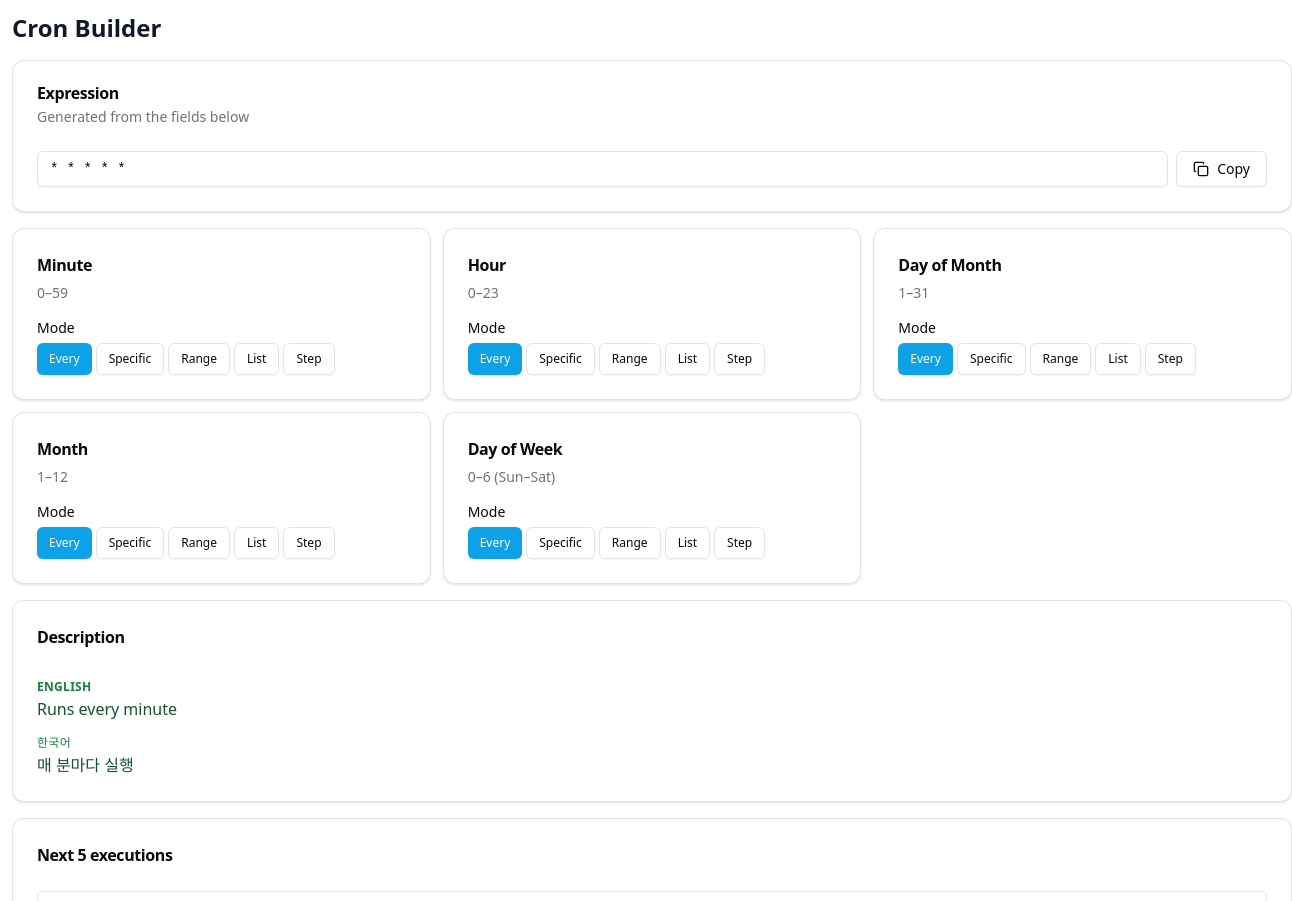
Test: CronBuilder › mode interactions › setting hour to range 9-17 produces * 9-17 * * *
Click the button "range" below "0–23". click: [630, 359]
box: [599,343,661,375]
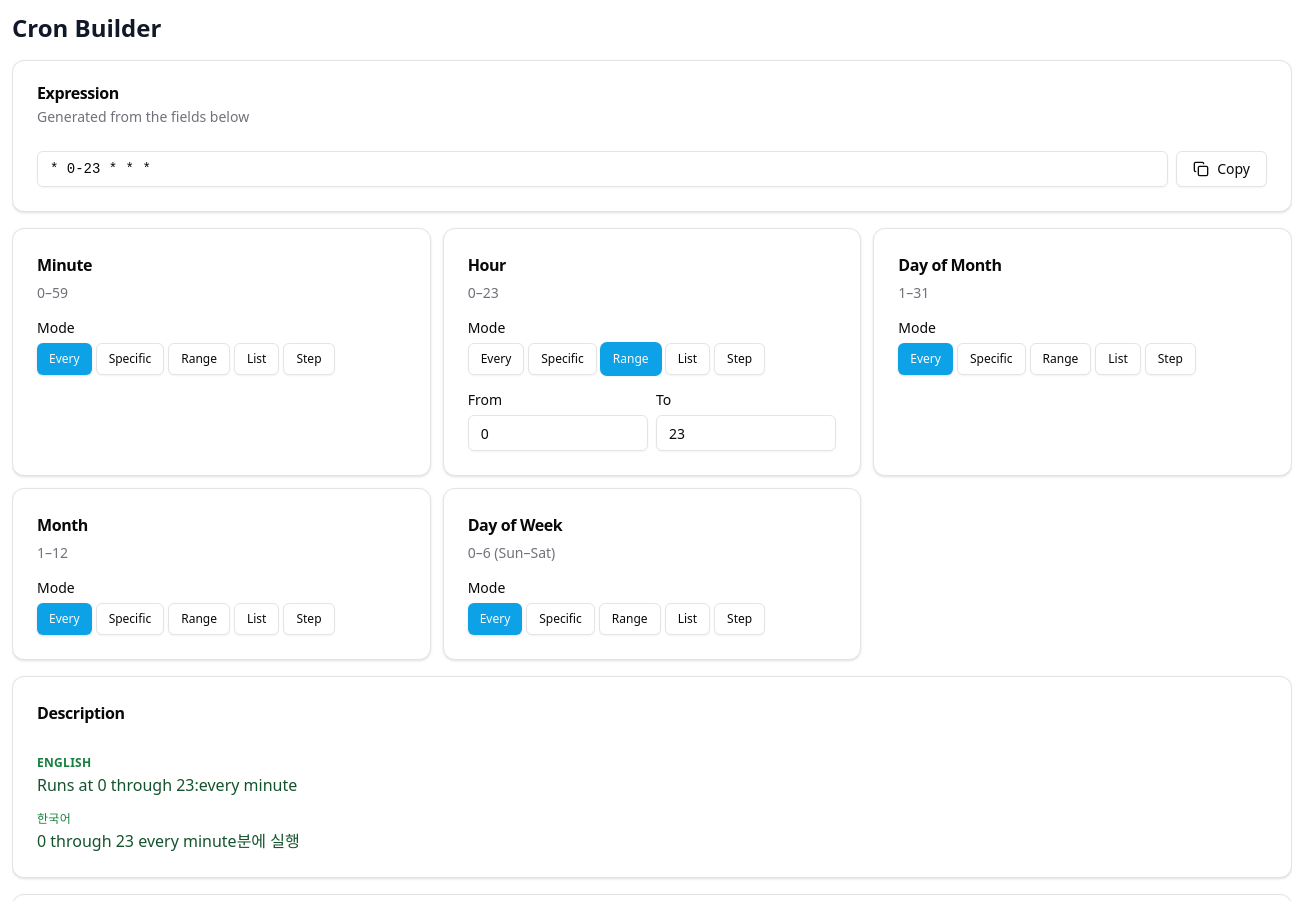
Replace the text in the number field with test id "from-hour" with "9". click: [558, 433]
box: [468,415,648,451]
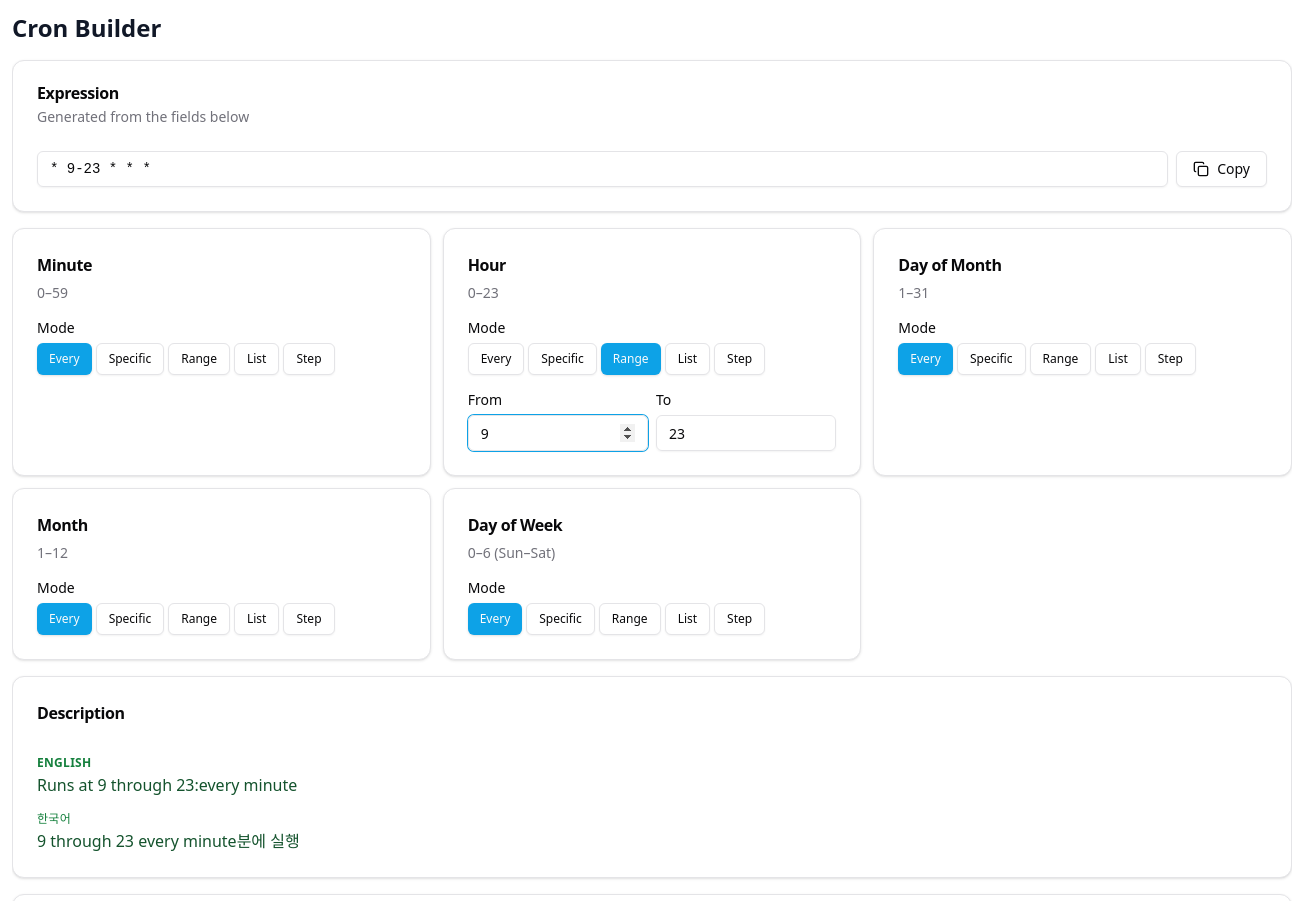
Replace the text in the number field with test id "to-hour" with "17". click: [746, 433]
box: [656,415,836,451]
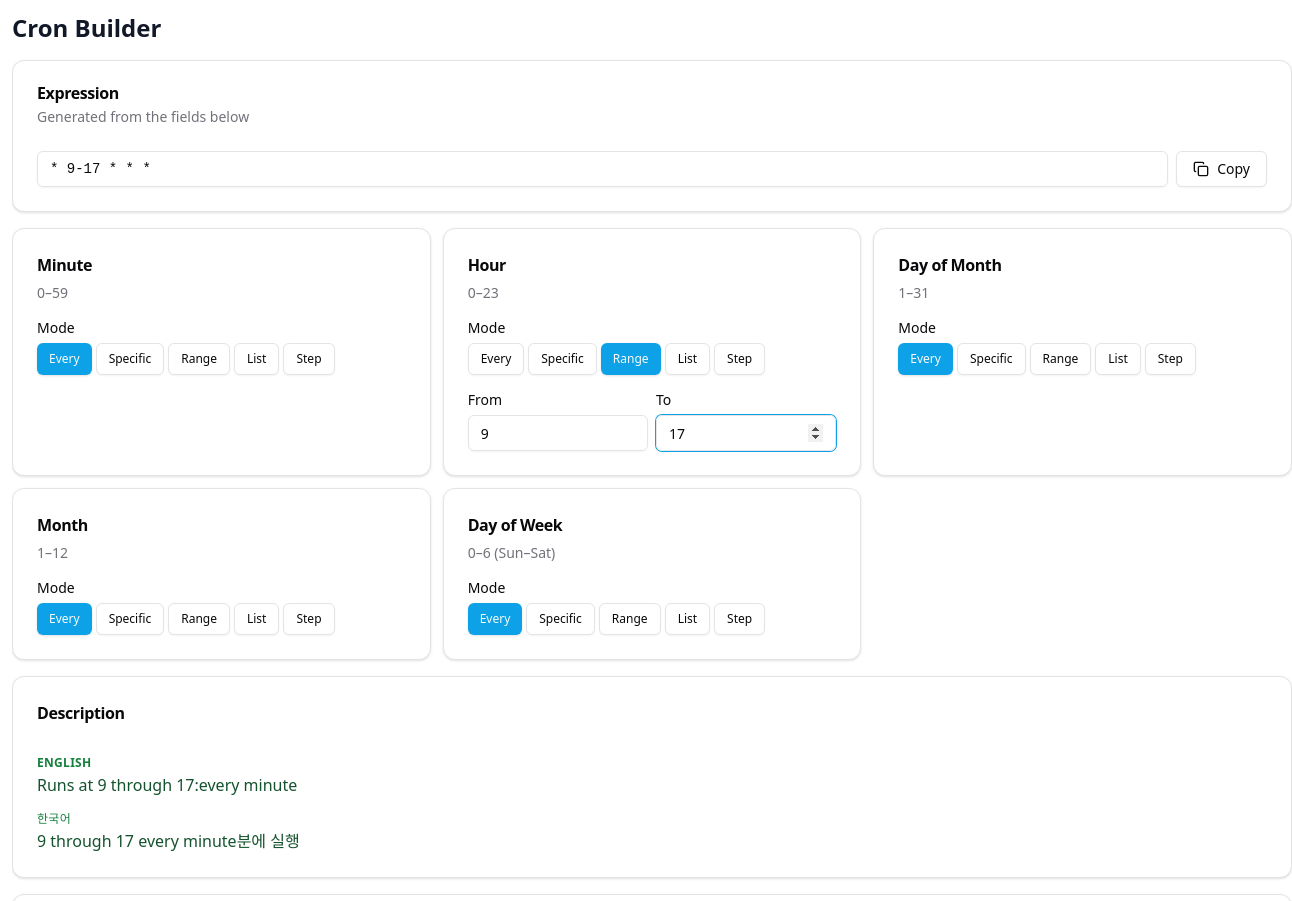
Now the field with test id "cron-output" holds "* 9-17 * * *", box [37,151,1168,187]
